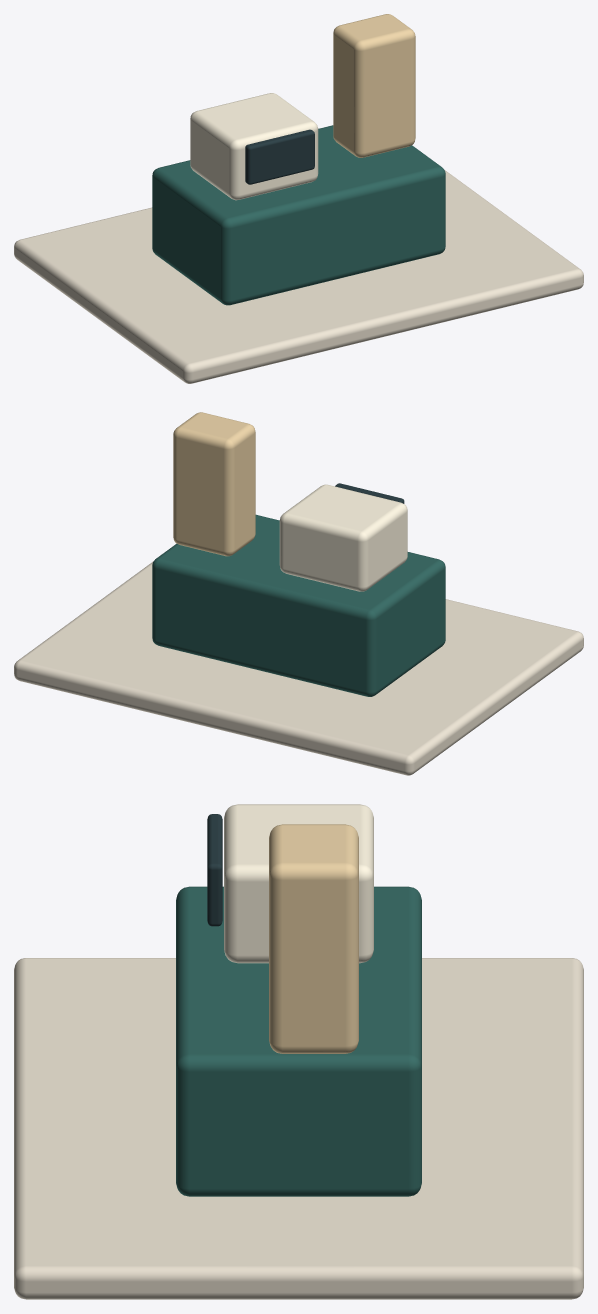
Rendered from work-retail.glb.
3 renders of one model, top to bottom at view 1: azimuth 30°, elevation 25°; view 2: azimuth 150°, elevation 25°; view 3: azimuth 270°, elevation 25°, orthographic. The views are drawn at different scales.
Visible parts, largest first — view 1: display-plinth, counter, shopping-bag, register, register-screen; view 2: display-plinth, counter, register, shopping-bag; view 3: display-plinth, counter, shopping-bag, register, register-screen.
Boxes of the visible parts, box(x1,y1,x2,y2) form: display-plinth: box(14, 169, 583, 383); counter: box(152, 125, 445, 305); shopping-bag: box(333, 14, 415, 157); register: box(190, 93, 318, 200); register-screen: box(245, 129, 314, 184); display-plinth: box(14, 561, 583, 775); counter: box(152, 514, 445, 696); register: box(279, 484, 407, 591); shopping-bag: box(173, 412, 255, 556); display-plinth: box(14, 958, 583, 1299); counter: box(176, 886, 421, 1196); shopping-bag: box(269, 824, 358, 1053); register: box(224, 804, 373, 963); register-screen: box(207, 814, 222, 926).
Size of the model in its own units: 2.5 by 1.34 by 1.9.
